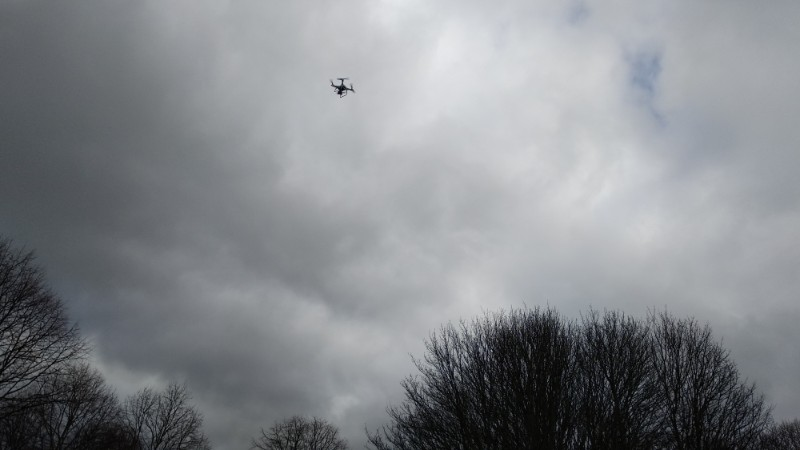drone: (330, 78, 356, 100)
